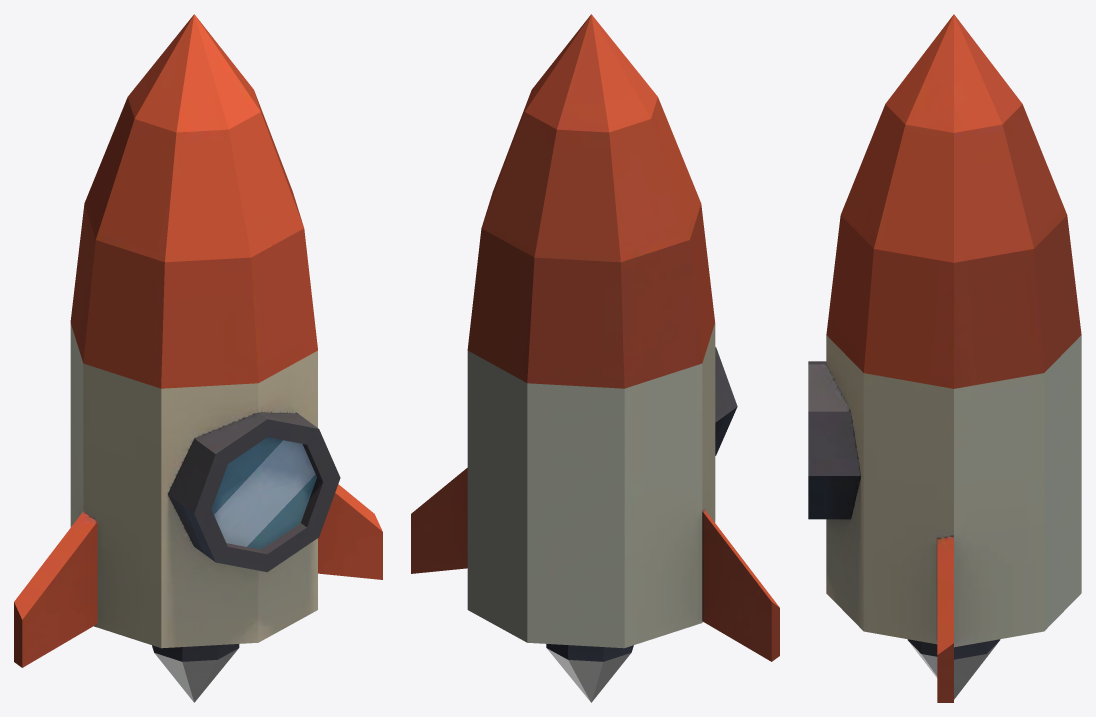
Rendered from Rocketship-transformed.glb.
3 views of the same model, side by side, from view 1: azimuth 30°, elevation 25°; view 2: azimuth 150°, elevation 25°; view 3: azimuth 270°, elevation 25° (orthographic).
Visible parts, largest first — view 1: rocket_ship; view 2: rocket_ship; view 3: rocket_ship.
Part boxes in pixels (left/top/right/bottom): rocket_ship: left=14, top=14, right=382, bottom=702; rocket_ship: left=411, top=14, right=779, bottom=702; rocket_ship: left=808, top=14, right=1081, bottom=702.
Bounding box in the file's own units: 1.47 × 2.69 × 0.9705.
Materials: 1 (1 with a texture image).
